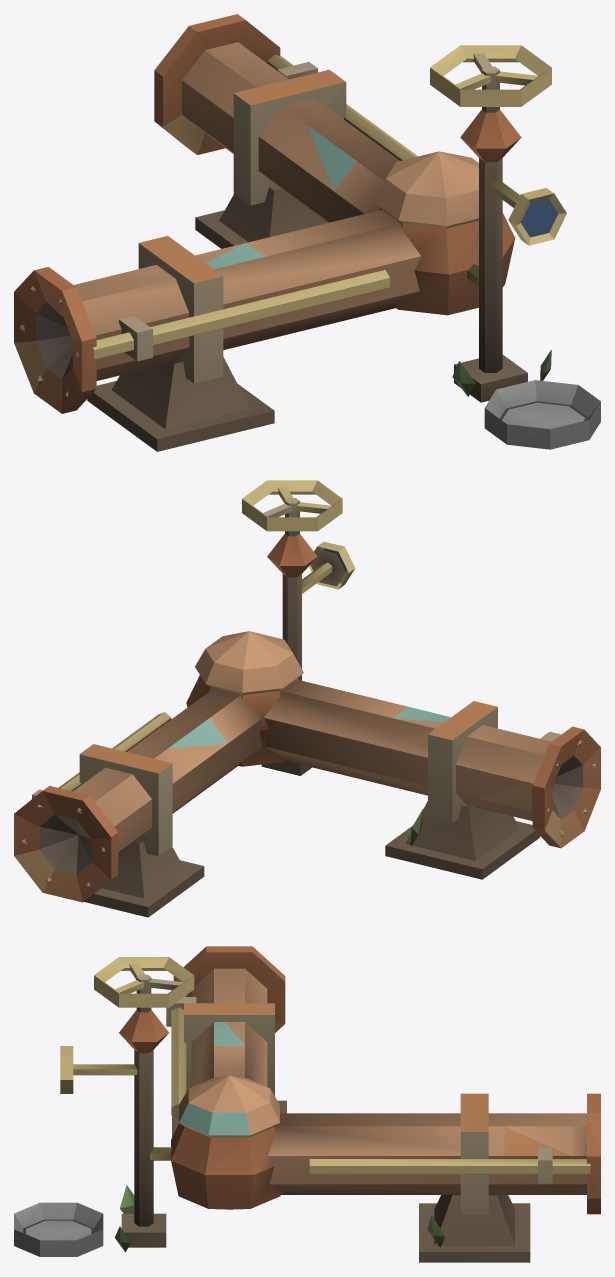
File: junction.glb
3 views of the same model, one above another, from view 1: azimuth 30°, elevation 25°; view 2: azimuth 150°, elevation 25°; view 3: azimuth 270°, elevation 25° (orthographic). The views are drawn at different scales.
Parts seen in each view (by area): view 1: junction; view 2: junction; view 3: junction.
Boxes of the visible parts, bbox=[...] form: junction: bbox=[14, 14, 600, 451]; junction: bbox=[14, 480, 600, 917]; junction: bbox=[14, 946, 600, 1262].
Bounding box in the file's own units: 2.34 × 1.56 × 3.16.
